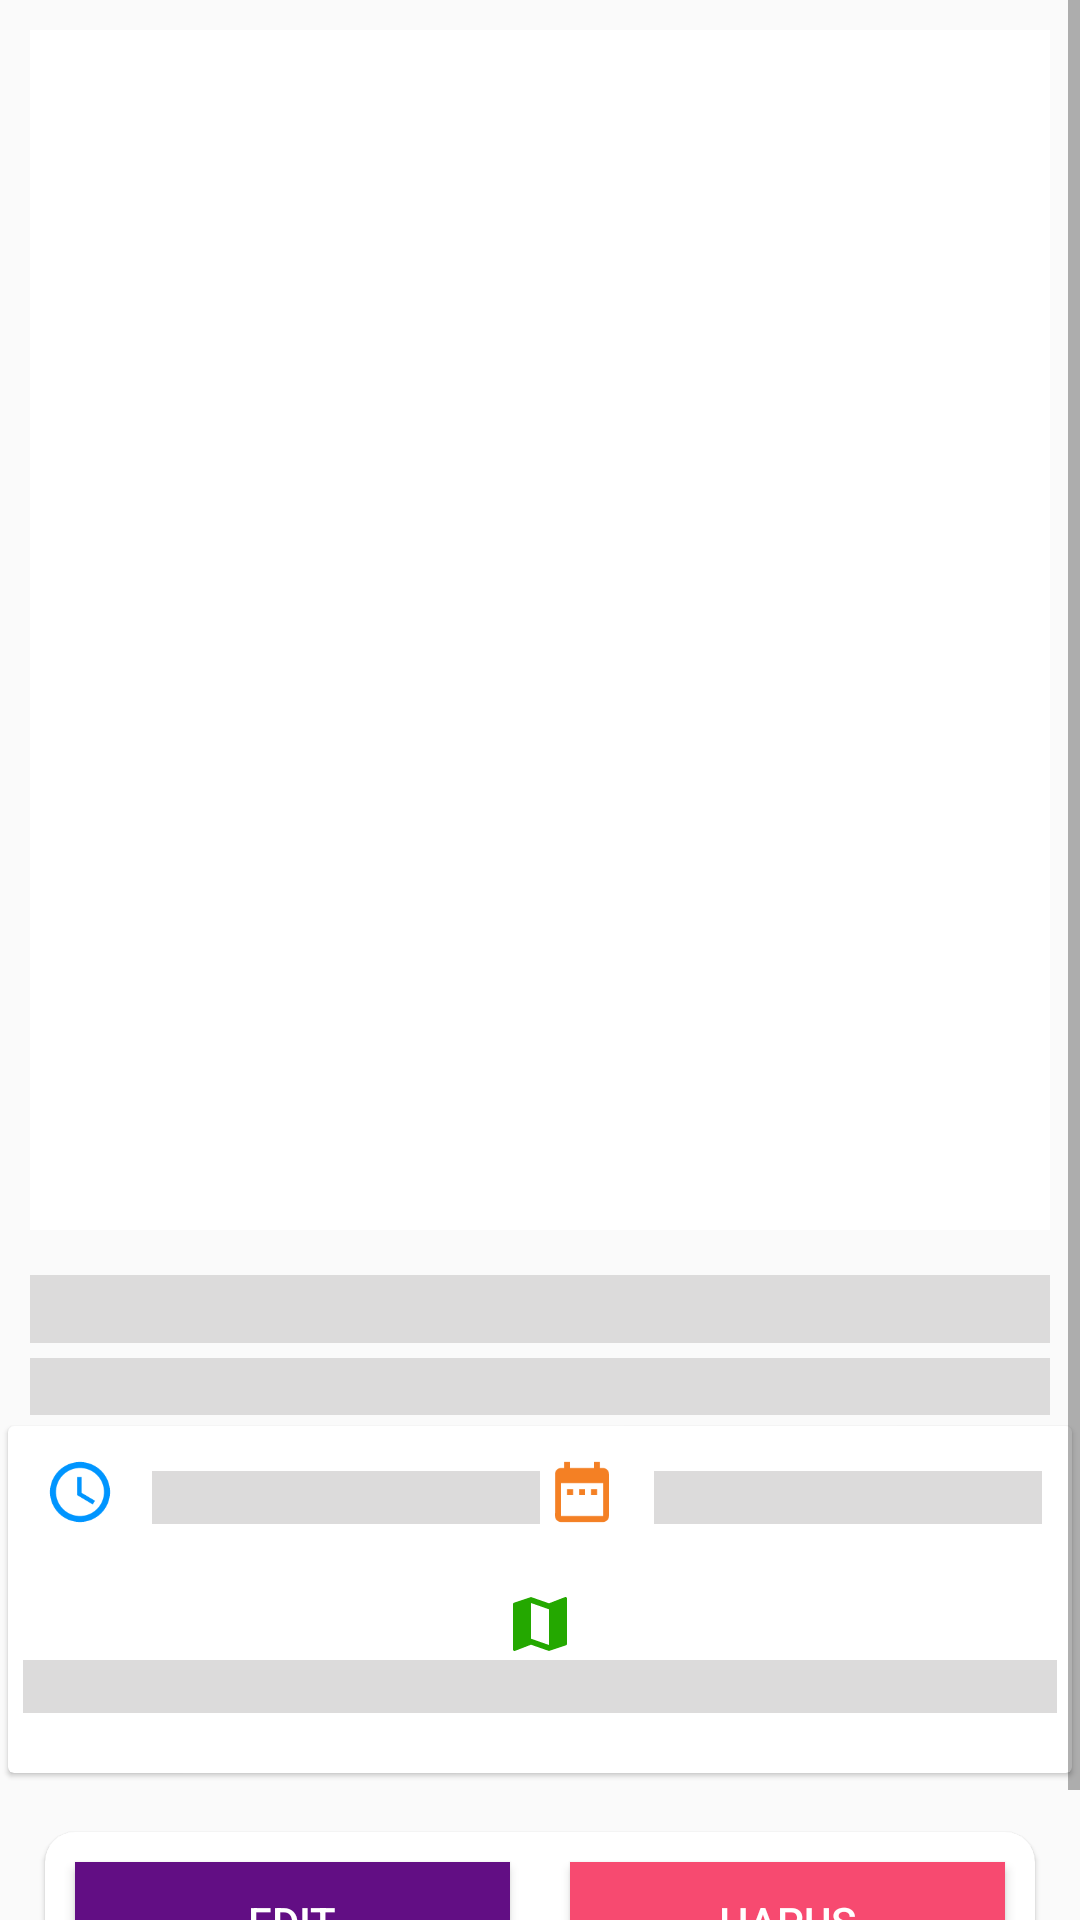

Icon bounding boxes for this 1080x1920 phone screenshot, format box=[x1, y1, x2, y2]:
access time: box=[49, 1461, 111, 1523]
date draw: box=[555, 1461, 609, 1523]
map: box=[513, 1597, 567, 1651]
